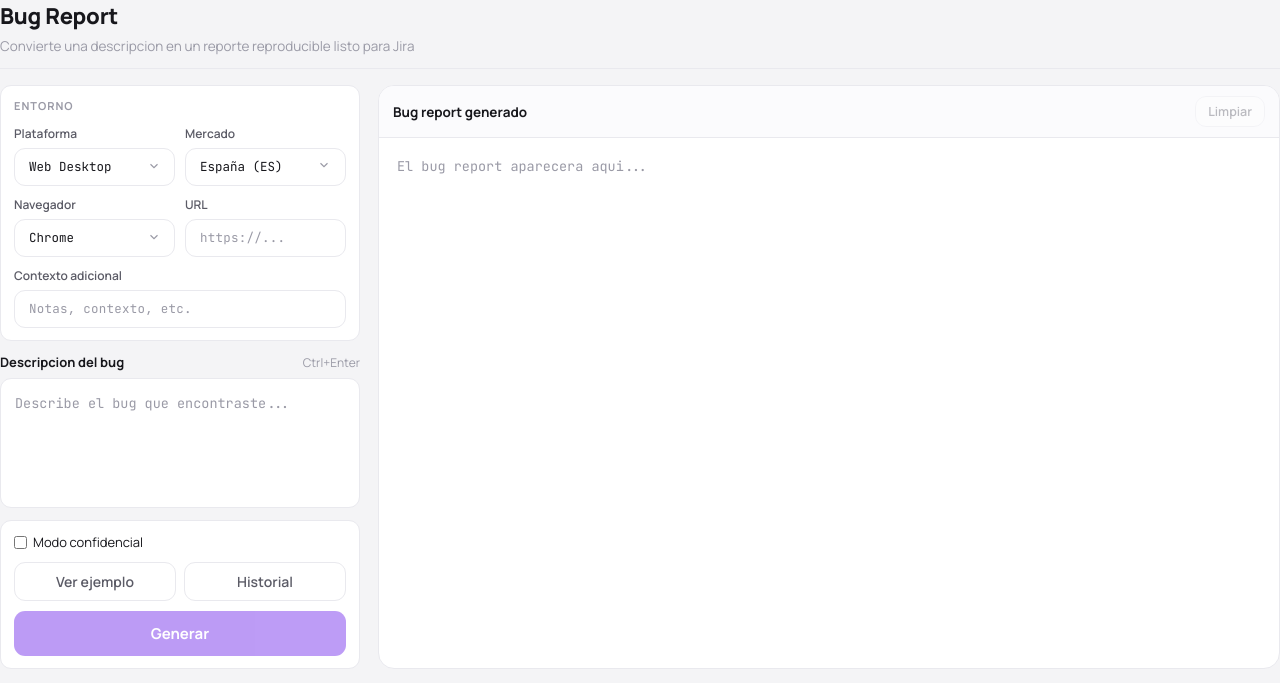
Test case: BugReportTool — URL por defecto › web -> app -> web conserva la URL escrita
The width and height of the screenshot is (1280, 683).
Type "x" into the text box with id "br-description".
click(180, 443); type("x")  # box x1=0 y1=378 x2=360 y2=508
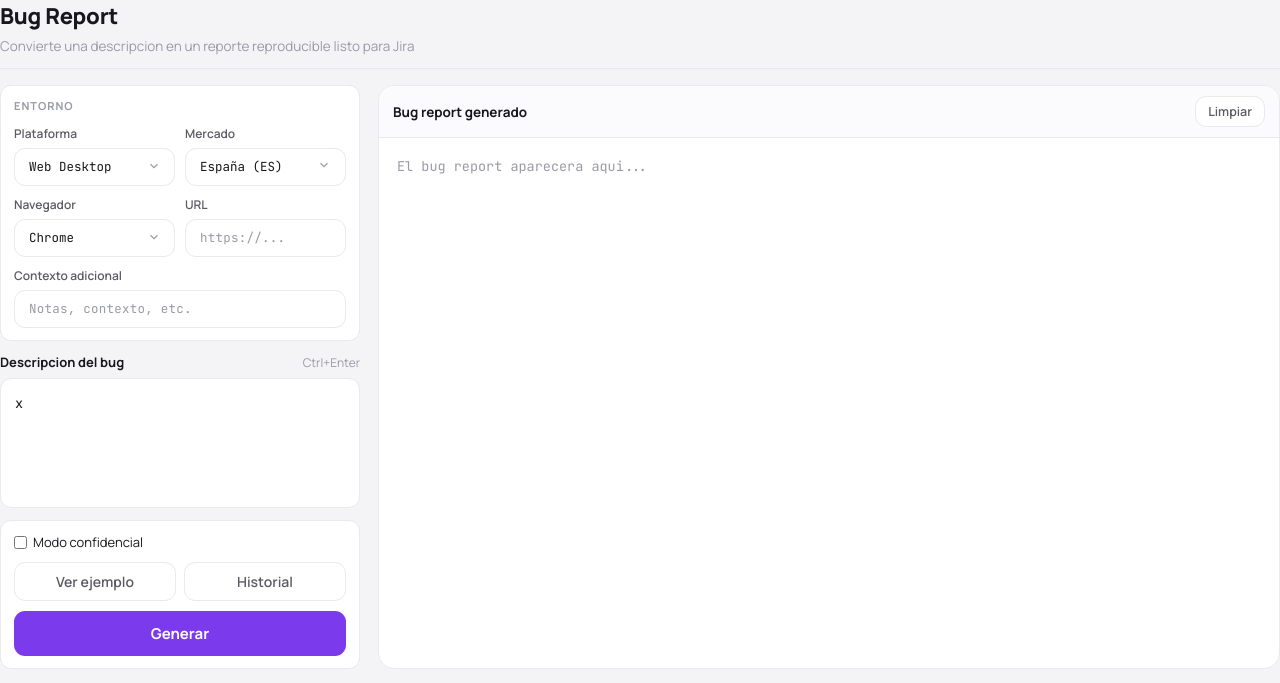
Type "https://mi.sitio/x" into the field with id "br-url".
click(266, 238); type("https://mi.sitio/x")  # box x1=185 y1=219 x2=346 y2=257
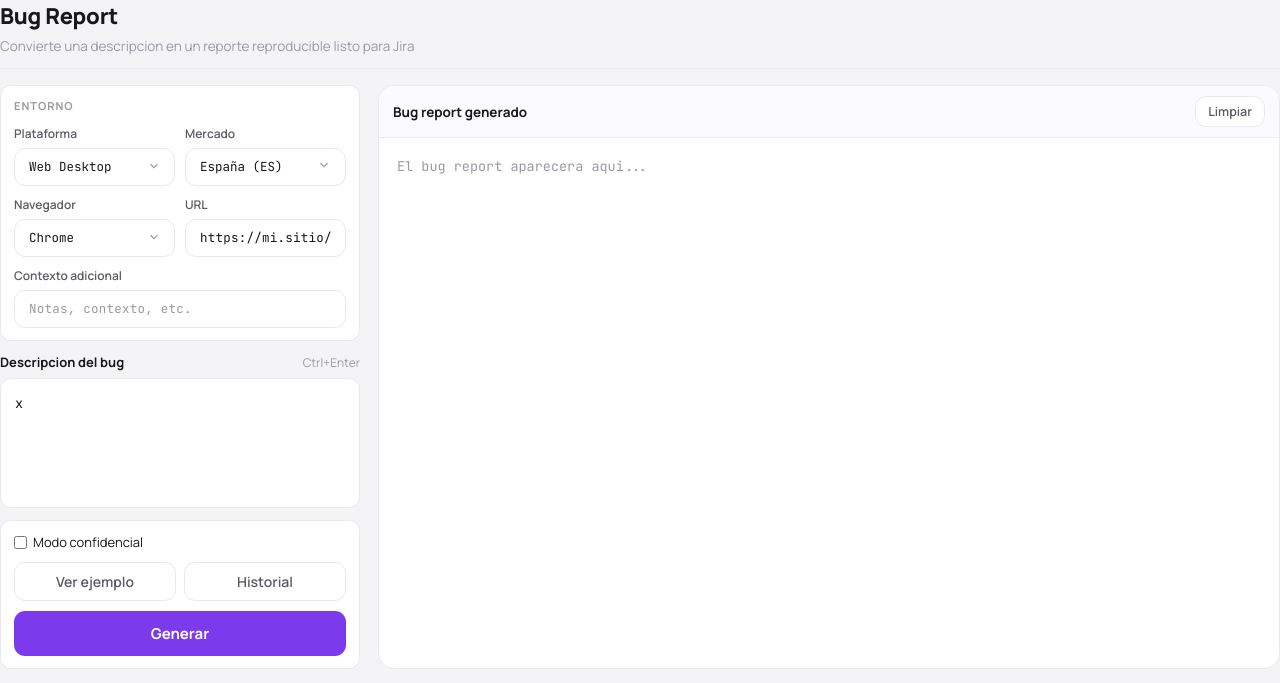
Select "App iOS" in the dropdown with id "br-platform" at (94, 167), box x1=14 y1=148 x2=175 y2=186
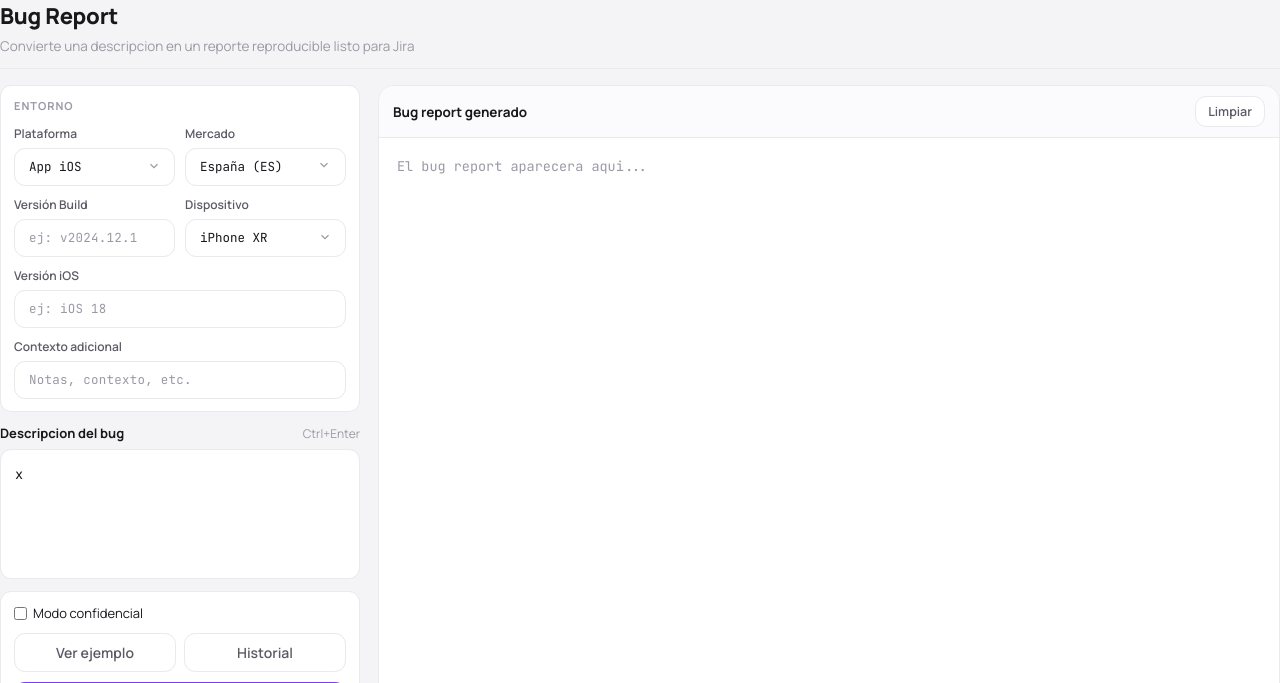
Select "Web Desktop" in the dropdown with id "br-platform" at (94, 167), box x1=14 y1=148 x2=175 y2=186
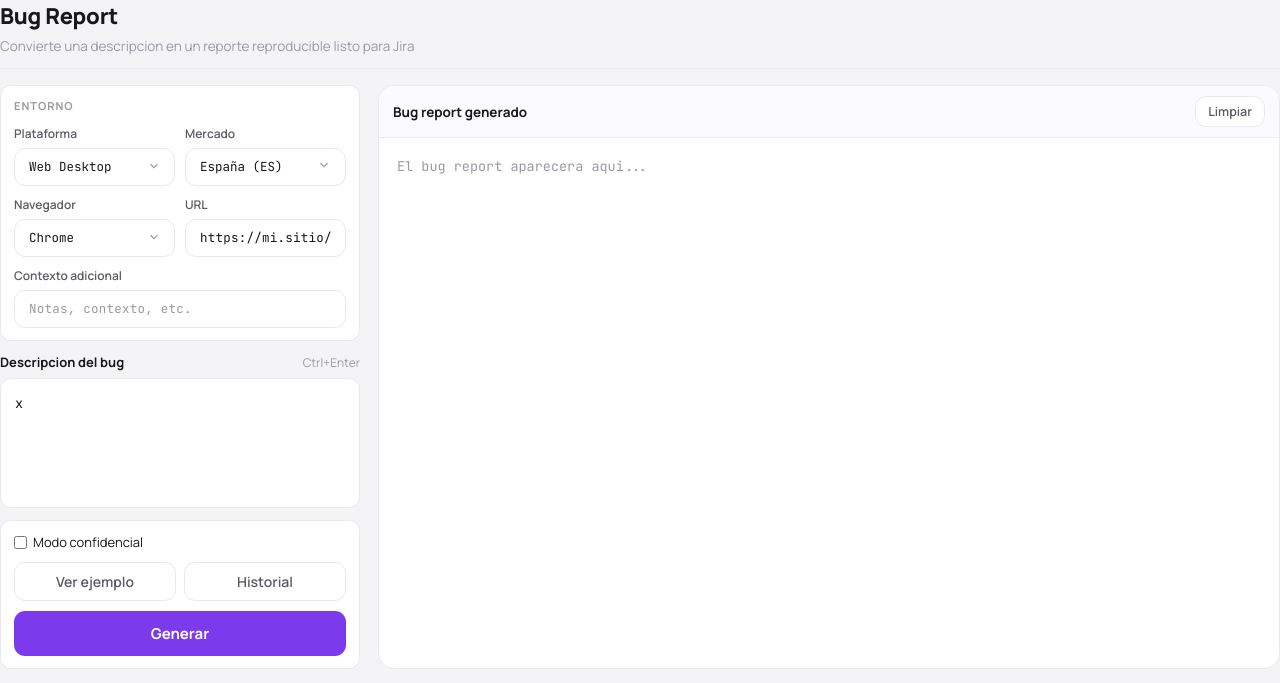
Expected: the field with id "br-url" holds "https://mi.sitio/x", x1=185 y1=219 x2=346 y2=257
